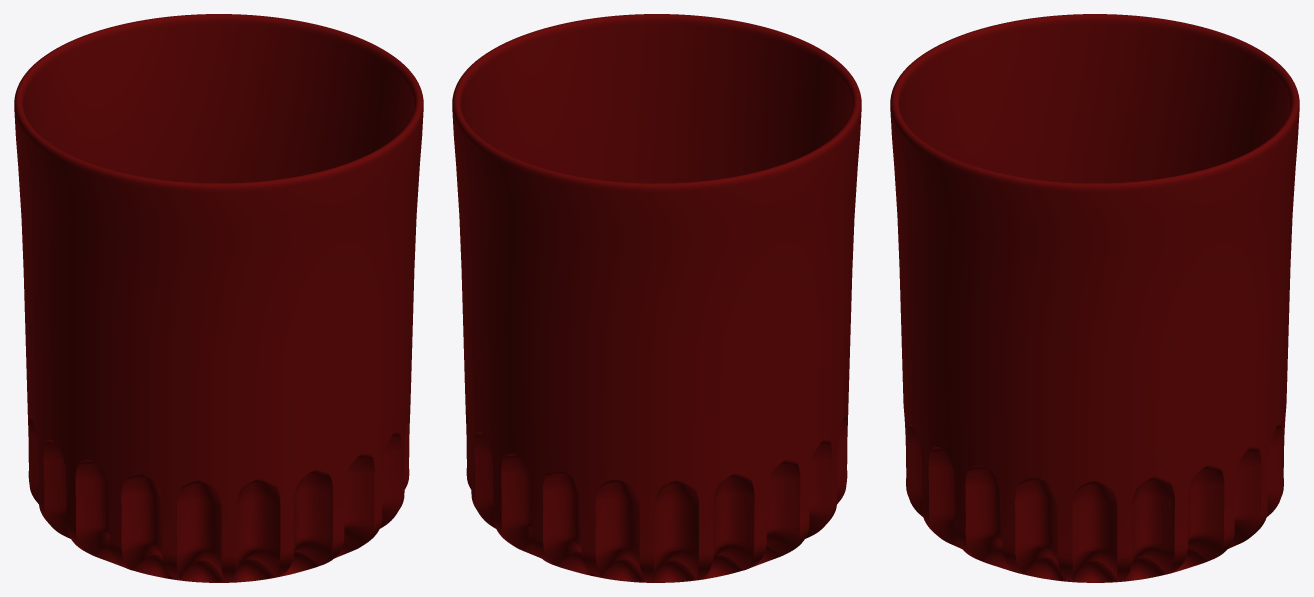
File: Rose40.glb
3 views of the same model, side by side, from view 1: azimuth 30°, elevation 25°; view 2: azimuth 150°, elevation 25°; view 3: azimuth 270°, elevation 25° (orthographic).
Size of the model in its own units: 0.0614 by 0.0712 by 0.0614.
